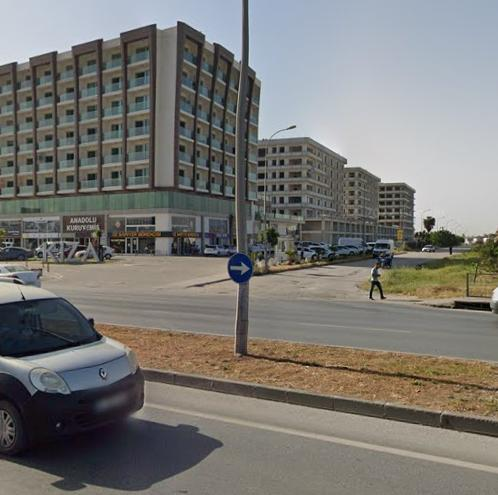turnright: (228, 253, 252, 282)
